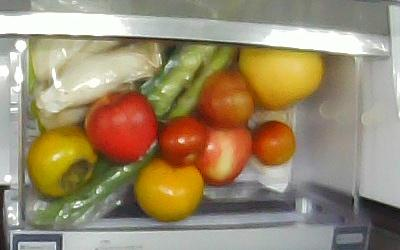apple: (84, 92, 157, 163), (194, 123, 256, 187)
grapefruit: (240, 47, 322, 111)
persimmon: (131, 156, 204, 223), (29, 130, 96, 197)
prune: (198, 68, 254, 126), (158, 118, 209, 167), (255, 119, 298, 168)
